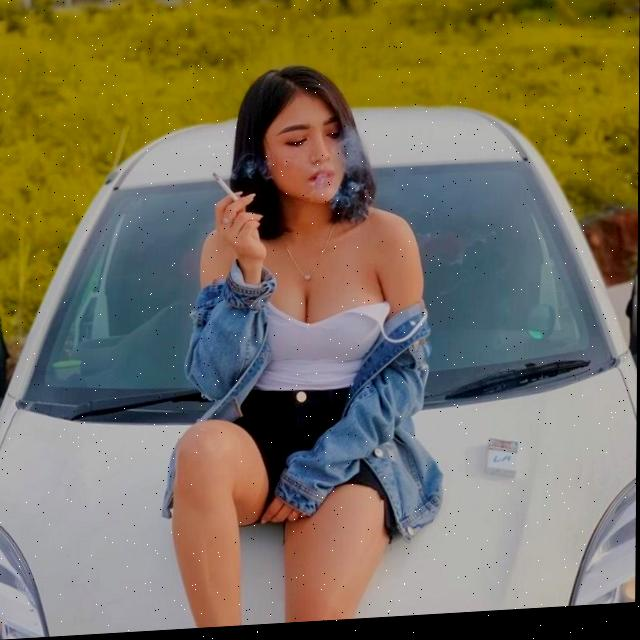cigarette: (213, 175, 239, 206)
